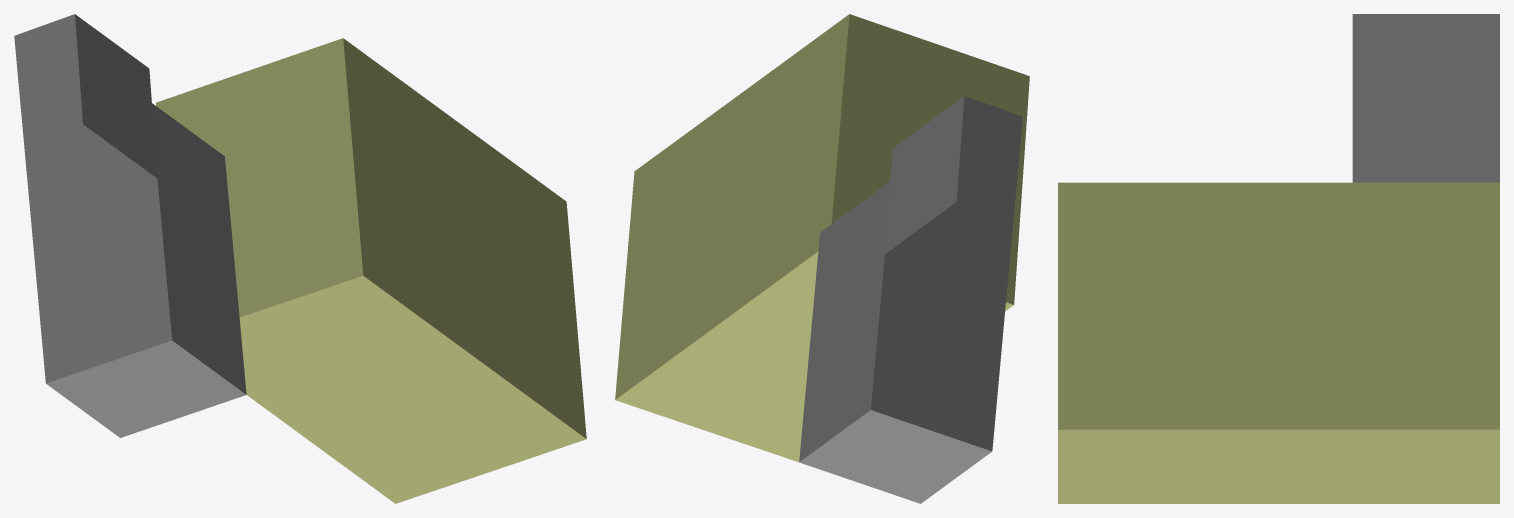
The picture shows the model from 3 angles, left to right: view 1: azimuth 30°, elevation 25°; view 2: azimuth 150°, elevation 25°; view 3: azimuth 270°, elevation 25°; orthographic projection. The views are drawn at different scales.
Parts seen in each view (by area): view 1: 0_2_3_3_3_1_0_3_2_1_0; view 2: 0_2_3_3_3_1_0_3_2_1_0; view 3: 0_2_3_3_3_1_0_3_2_1_0.
Boxes of the visible parts, x1,y1,x2,y2 form: 0_2_3_3_3_1_0_3_2_1_0: (14,14,586,503); 0_2_3_3_3_1_0_3_2_1_0: (615,14,1029,503); 0_2_3_3_3_1_0_3_2_1_0: (1058,14,1499,503).
Bounding box in the file's own units: 8.12 × 8.06 × 9.
